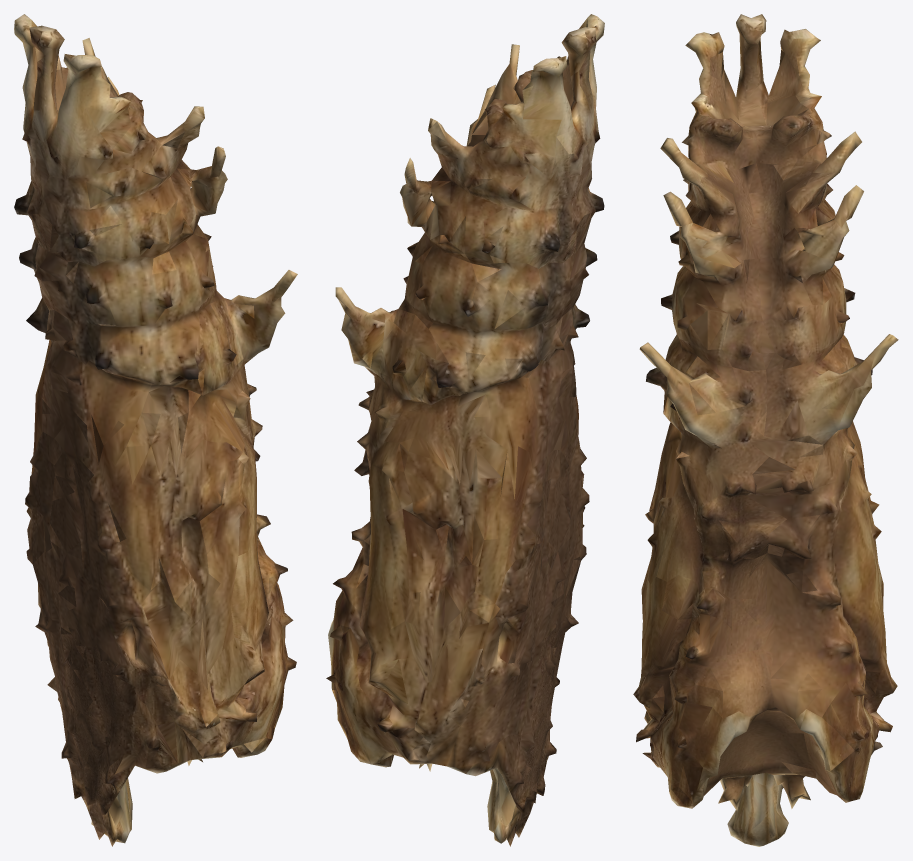
Rendered from crisalida_colobura_2.fbx.
The picture shows the model from 3 angles, left to right: view 1: azimuth 30°, elevation 25°; view 2: azimuth 150°, elevation 25°; view 3: azimuth 270°, elevation 25°; orthographic projection. The views are drawn at different scales.
Visible parts, largest first — view 1: tripo_node_c916f141; view 2: tripo_node_c916f141; view 3: tripo_node_c916f141.
Part boxes in pixels (bbox=[...]): tripo_node_c916f141: bbox=[14, 14, 297, 846]; tripo_node_c916f141: bbox=[326, 14, 604, 846]; tripo_node_c916f141: bbox=[633, 14, 898, 846].
Size of the model in its own units: 0.8225 by 2.7 by 0.8159.
Materials: 1 (1 with a texture image).
